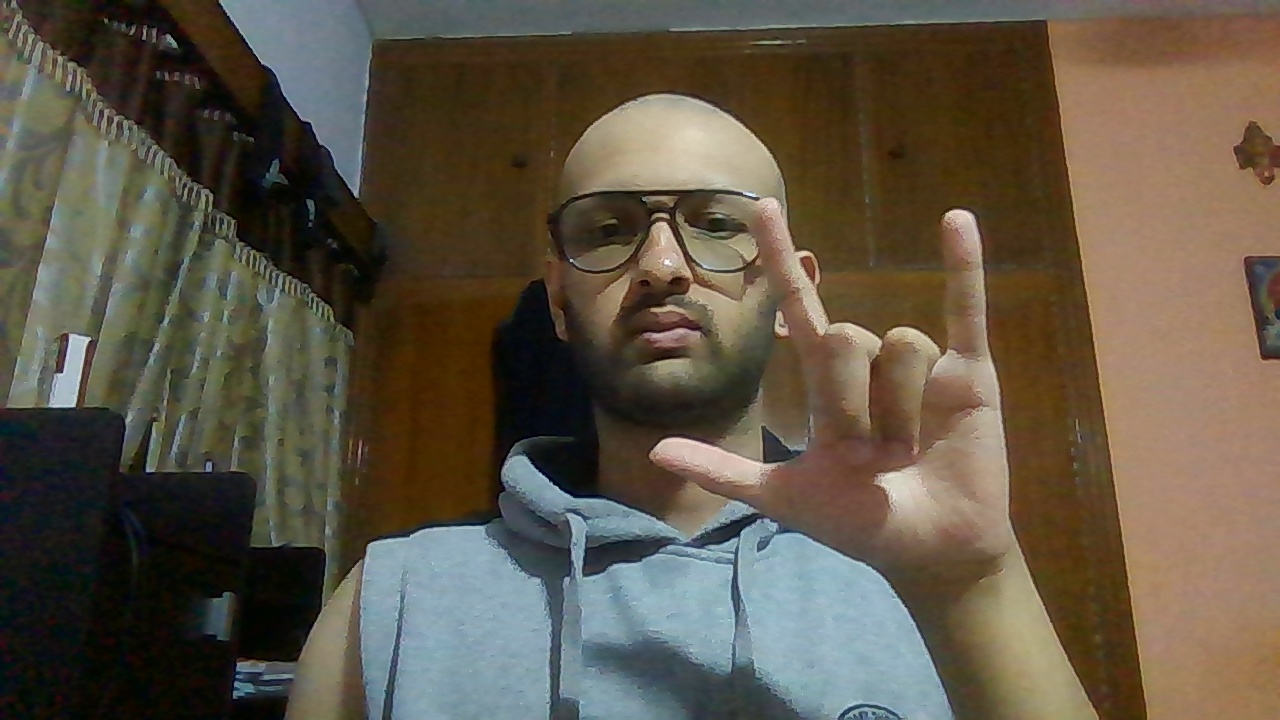I Love You: (646, 196, 1022, 572)
